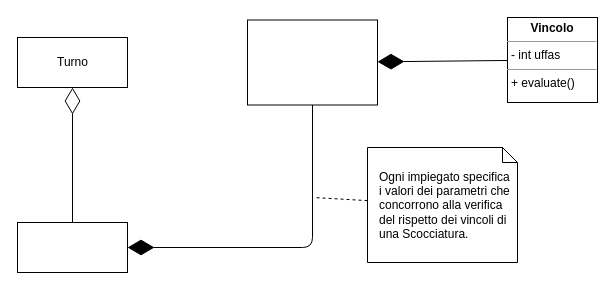
This 615x291 diagram has some shape labels left out. Here are the shapes that lost their labels. From the top down, the centre of each, then its label:
[312,62]: Scocciatura + calculateUffaScore()
[72,247]: Impiegato
